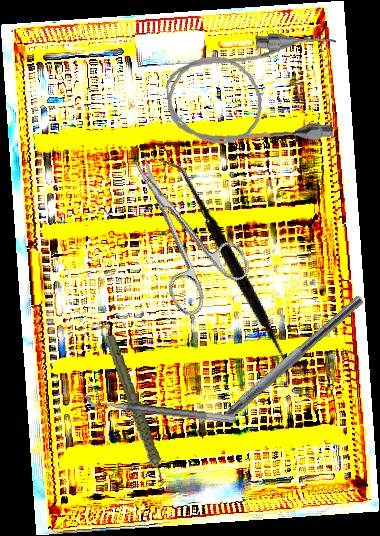Cannula: (162, 27, 345, 154)
Chopper: (184, 282, 366, 451)
Fixation Ring: (83, 384, 238, 425)
Handpiece: (103, 331, 166, 493)
Iris Scissors: (104, 135, 258, 321)
Spatula Surgical: (98, 155, 368, 382)
